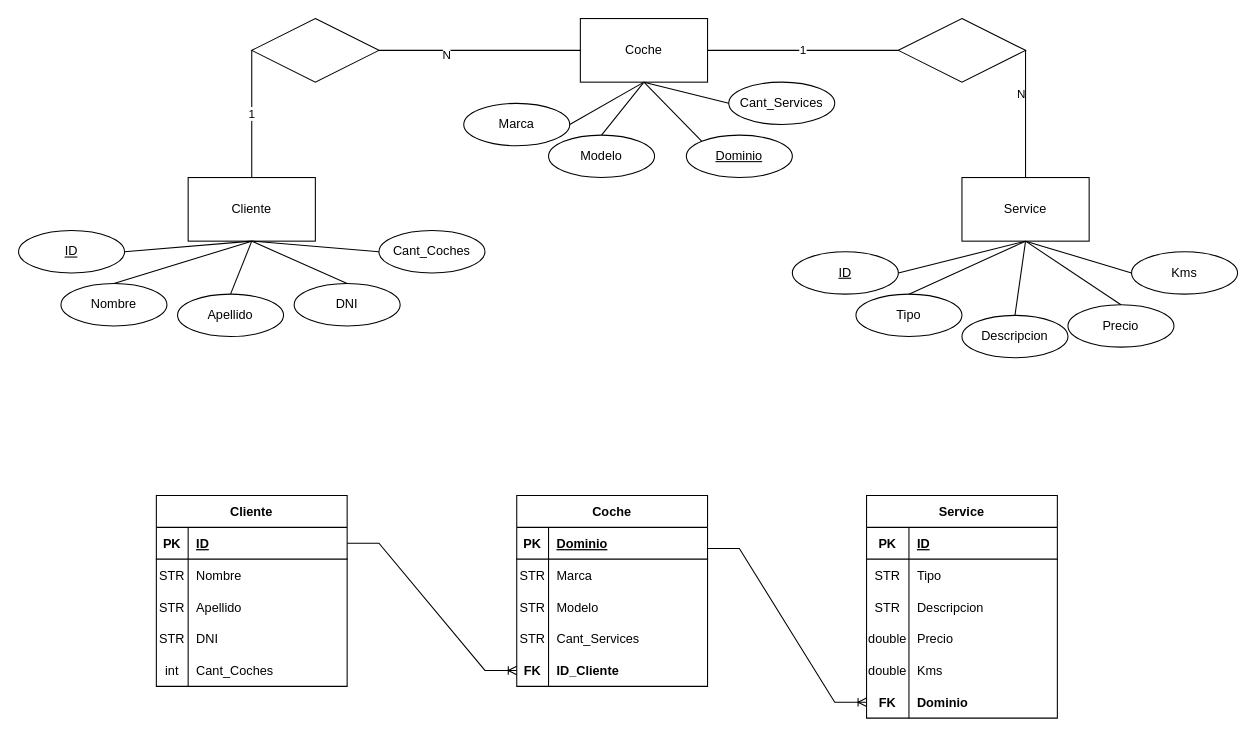
Image size: 1256x737. Some labels were removed from this diagram. Here are the shapes that lost their labels. From the top down, the centre of each, then its label:
At pixel 315 49: "Posee".
At pixel 961 49: "Tiene".
